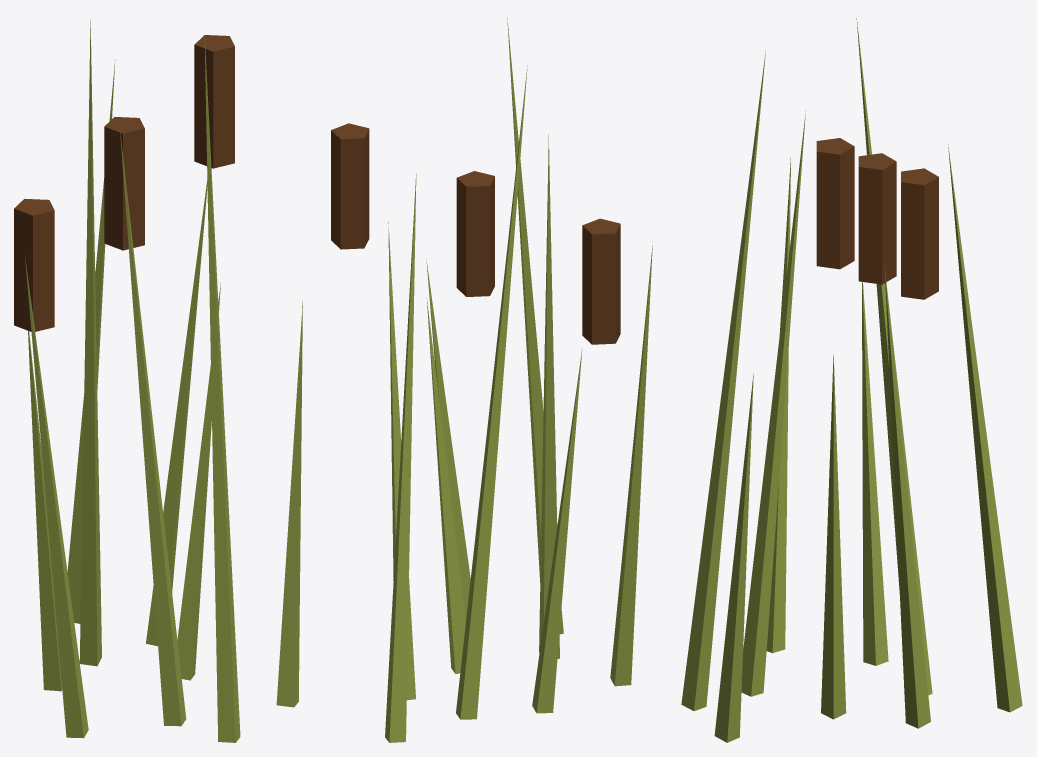
The model's file is town_river_reeds.glb.
The picture shows the model from 3 angles, left to right: view 1: azimuth 30°, elevation 25°; view 2: azimuth 150°, elevation 25°; view 3: azimuth 270°, elevation 25°; orthographic projection. The views are drawn at different scales.
Visible parts, largest first — view 1: river_reeds; view 2: river_reeds; view 3: river_reeds.
Part boxes in pixels (x1,y1,x2,y2): river_reeds: [14, 19, 302, 742]; river_reeds: [331, 18, 652, 742]; river_reeds: [681, 18, 1022, 742].
Bounding box in the file's own units: 0.7337 × 1.74 × 0.8098.
